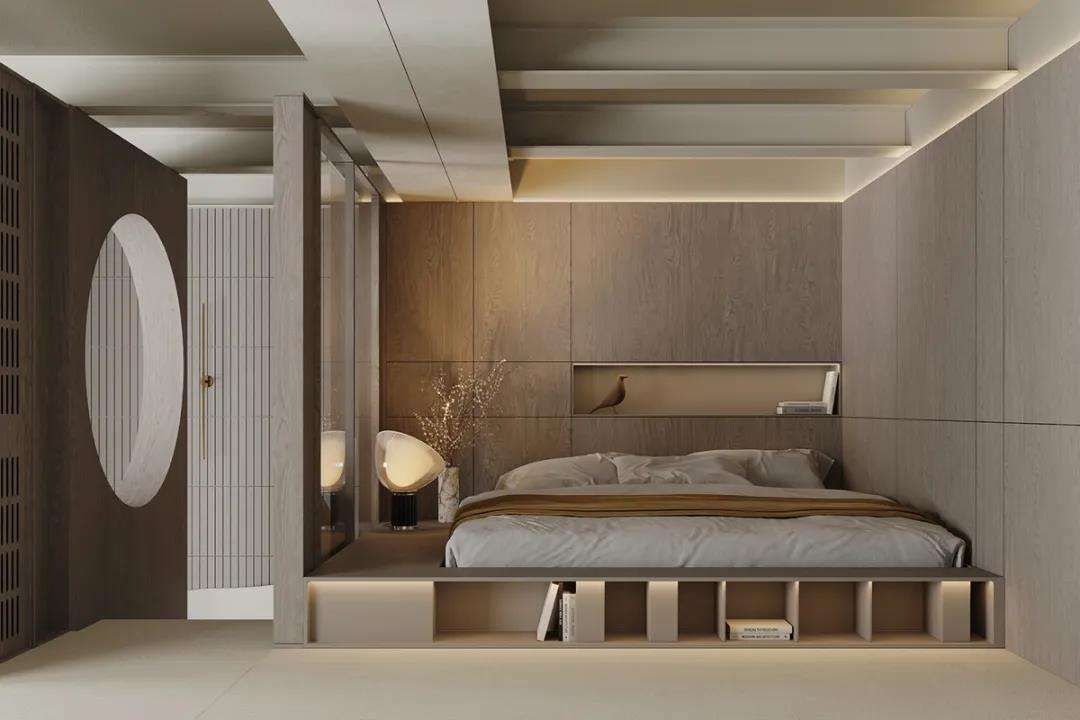床: (441, 469, 959, 648)
枕头: (493, 444, 839, 498)
灯: (371, 426, 436, 517), (313, 425, 346, 511)
